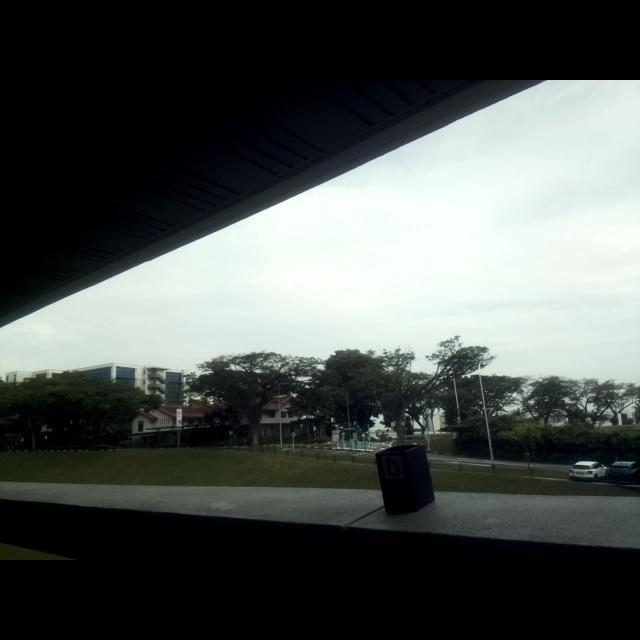D: (385, 457, 401, 478)
